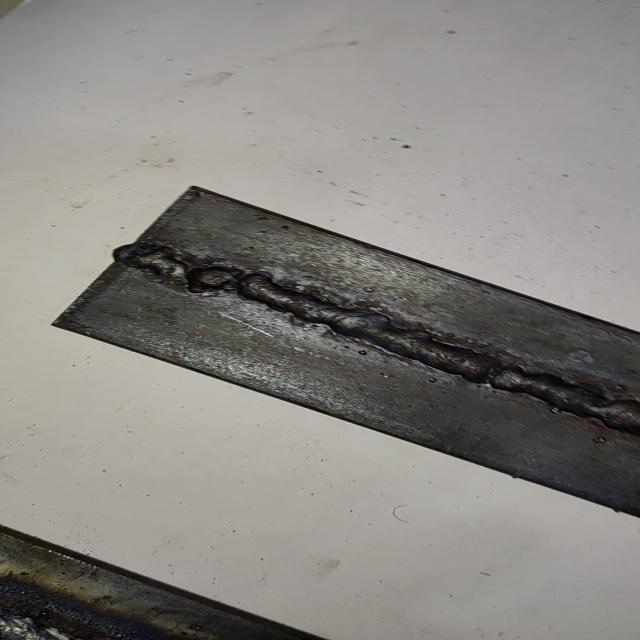Defect: (119, 238, 268, 308)
Welding Line: (110, 242, 640, 452)
Workpiece: (48, 178, 640, 524)
